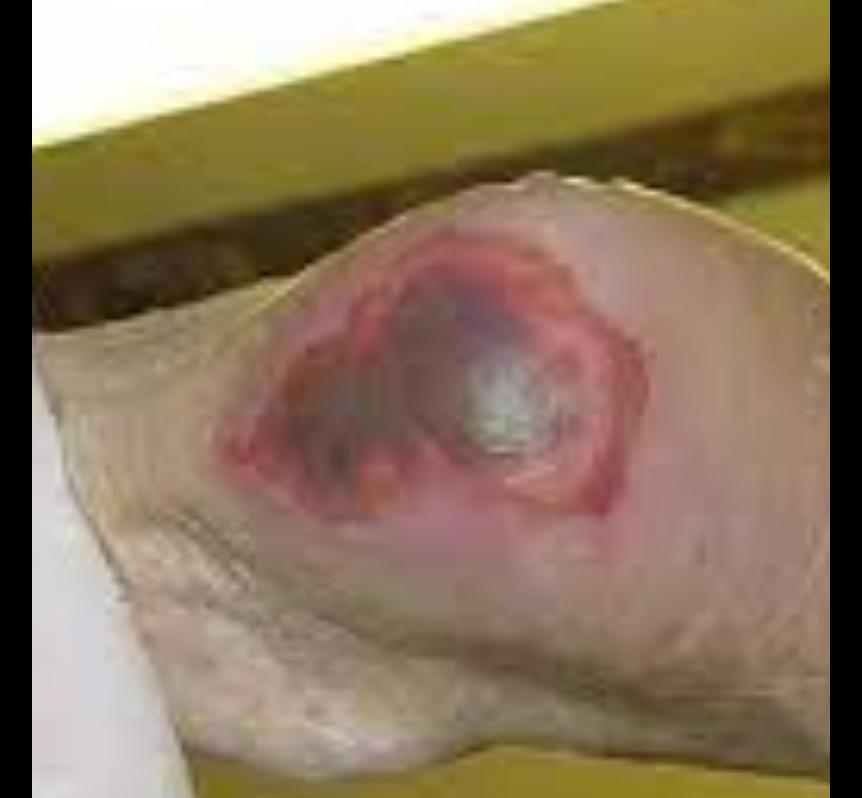Stage2: (195, 186, 689, 528)
